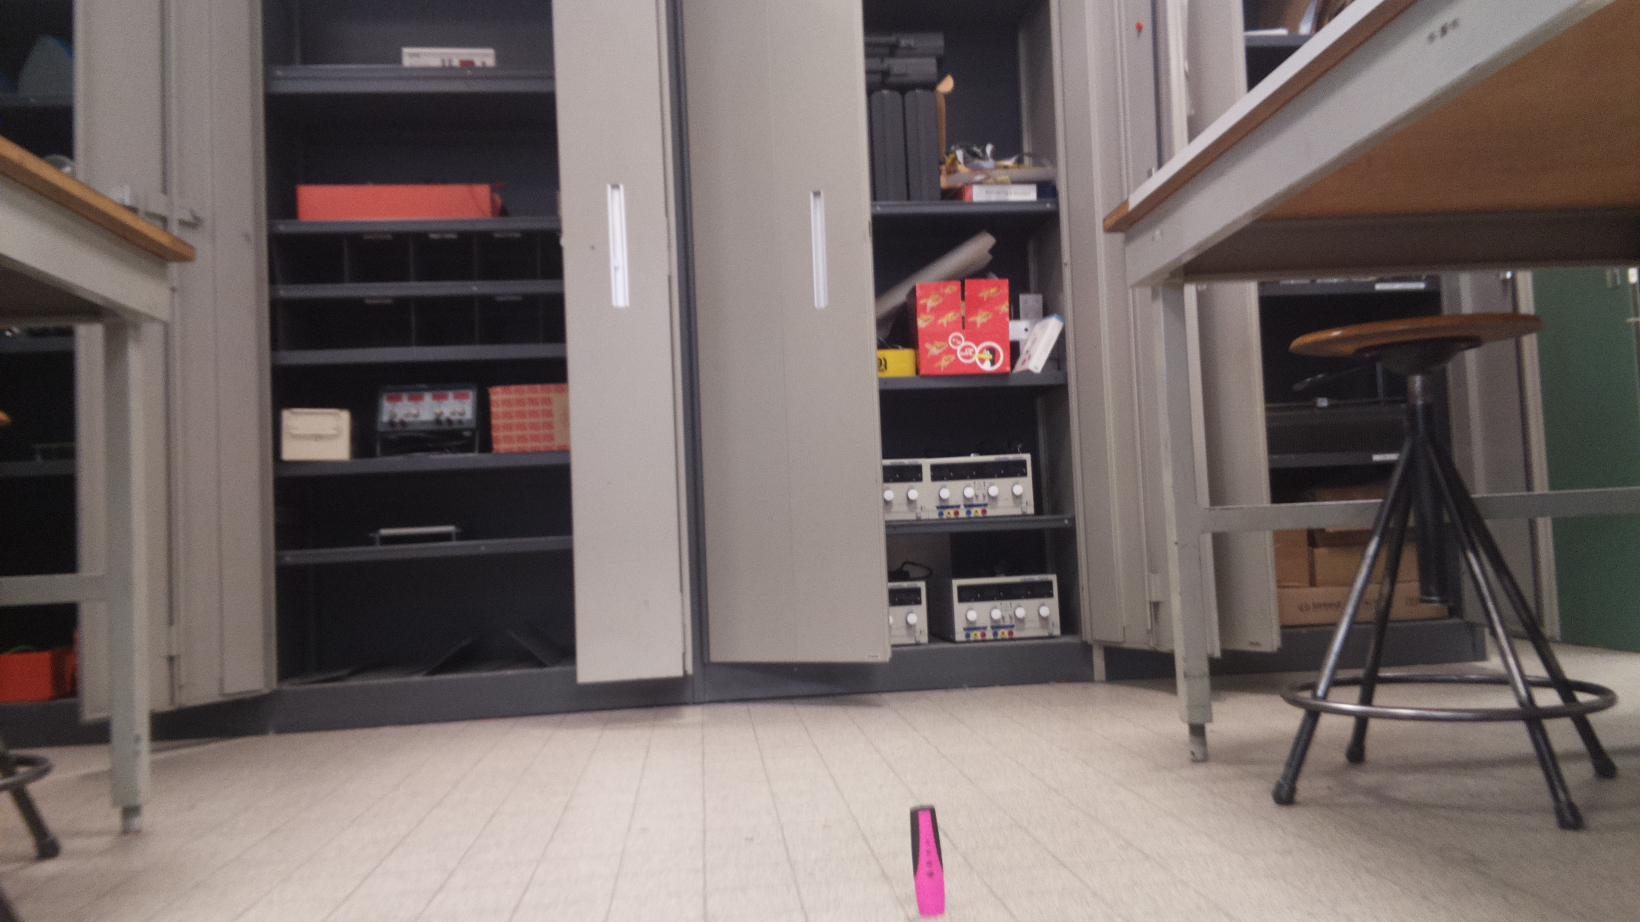small: (907, 804, 954, 916)
